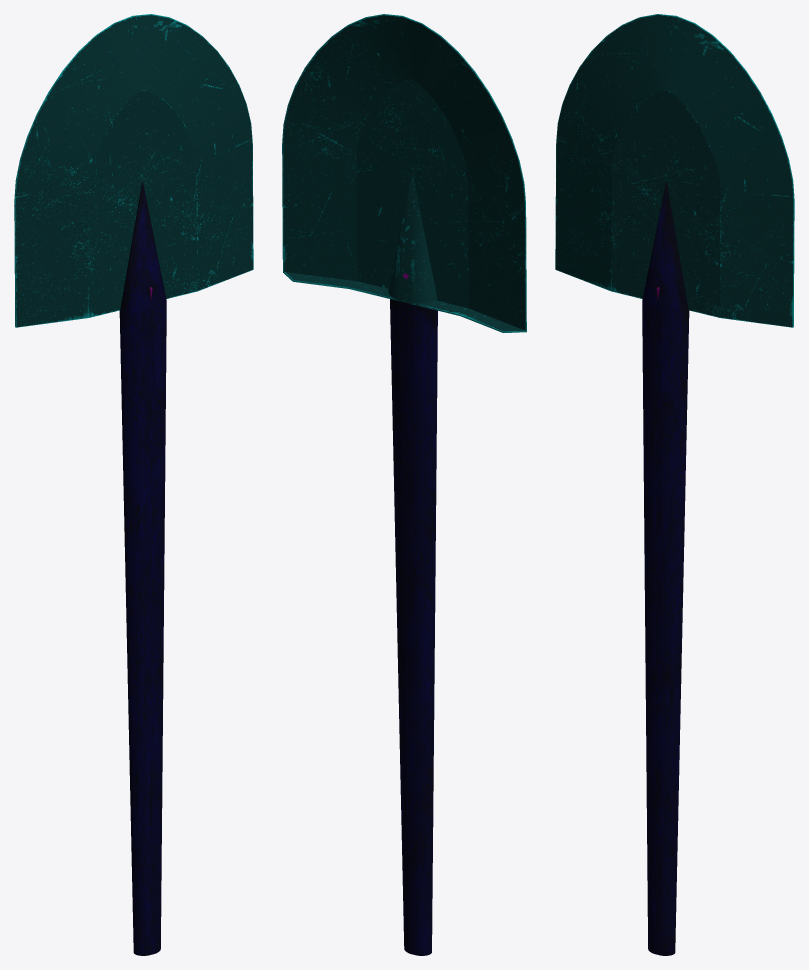
The model's file is shovel.glb.
The picture shows the model from 3 angles, left to right: view 1: azimuth 30°, elevation 25°; view 2: azimuth 150°, elevation 25°; view 3: azimuth 330°, elevation 25°; orthographic projection. The views are drawn at different scales.
Visible parts, largest first — view 1: Shovel; view 2: Shovel; view 3: Shovel.
Boxes of the visible parts, x1=… form: Shovel: x1=14, y1=14, x2=253, y2=955; Shovel: x1=282, y1=14, x2=526, y2=955; Shovel: x1=555, y1=14, x2=794, y2=955.
Bounding box in the file's own units: 2 × 7.41 × 0.3542.
Materials: 1 (1 with a texture image).
